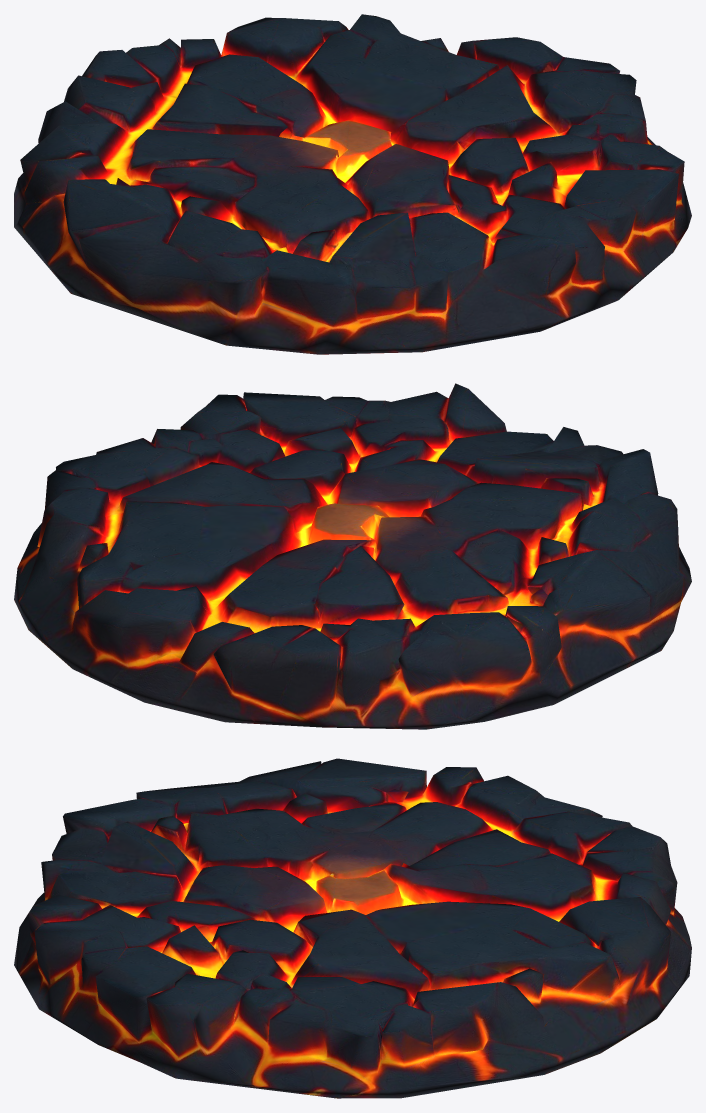
Rendered from prop-embercrack.glb.
3 views of the same model, one above another, from view 1: azimuth 30°, elevation 25°; view 2: azimuth 150°, elevation 25°; view 3: azimuth 270°, elevation 25° (orthographic).
Size of the model in its own units: 2 by 0.2445 by 2.
1 material, 1 textured.
